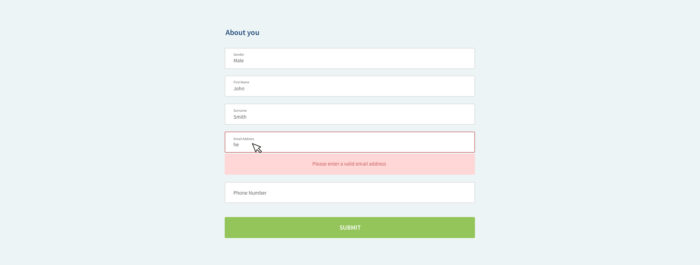error_field: (224, 130, 476, 153)
error_message: (309, 159, 390, 168)
